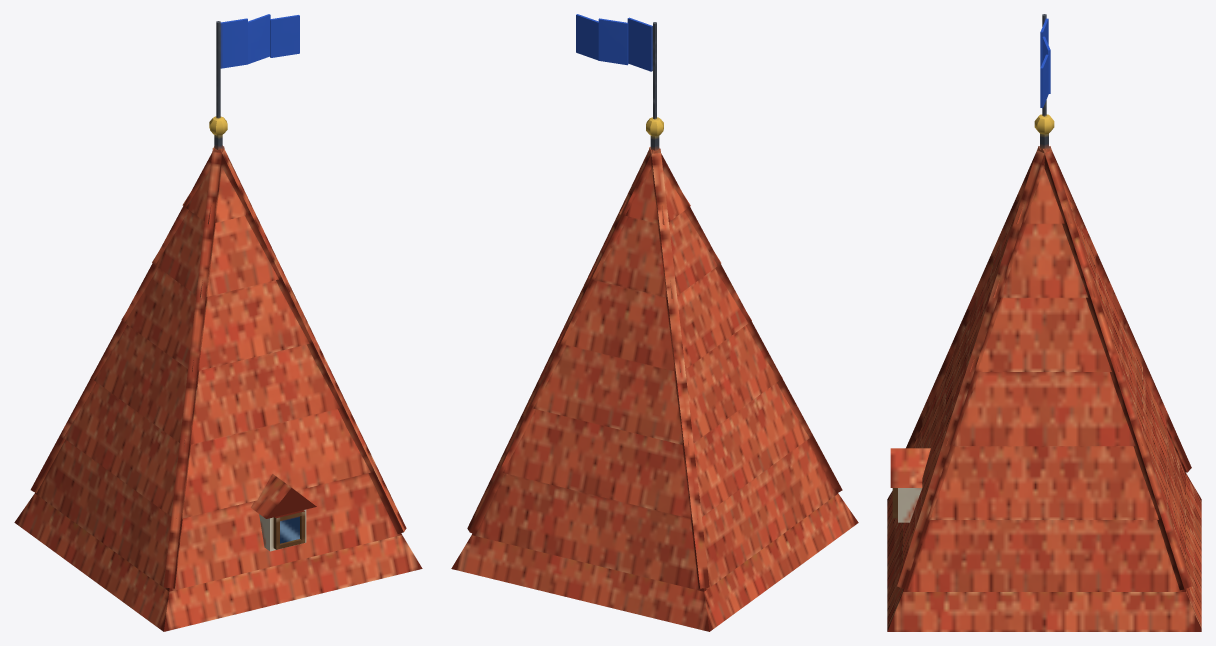
The model's file is Kit_Gate_TowerRoof.fbx.
The picture shows the model from 3 angles, left to right: view 1: azimuth 30°, elevation 25°; view 2: azimuth 150°, elevation 25°; view 3: azimuth 270°, elevation 25°; orthographic projection. The views are drawn at different scales.
Parts seen in each view (by area): view 1: Kit_Gate_TowerRoof_LOD0; view 2: Kit_Gate_TowerRoof_LOD0; view 3: Kit_Gate_TowerRoof_LOD0.
Boxes of the visible parts, x1,y1,x2,y2 form: Kit_Gate_TowerRoof_LOD0: (14,14,422,631); Kit_Gate_TowerRoof_LOD0: (451,14,858,631); Kit_Gate_TowerRoof_LOD0: (887,14,1201,631).
Size of what is drawn, in the model's own units: 3 by 5.8 by 3.
Materials: 1 (1 with a texture image).
